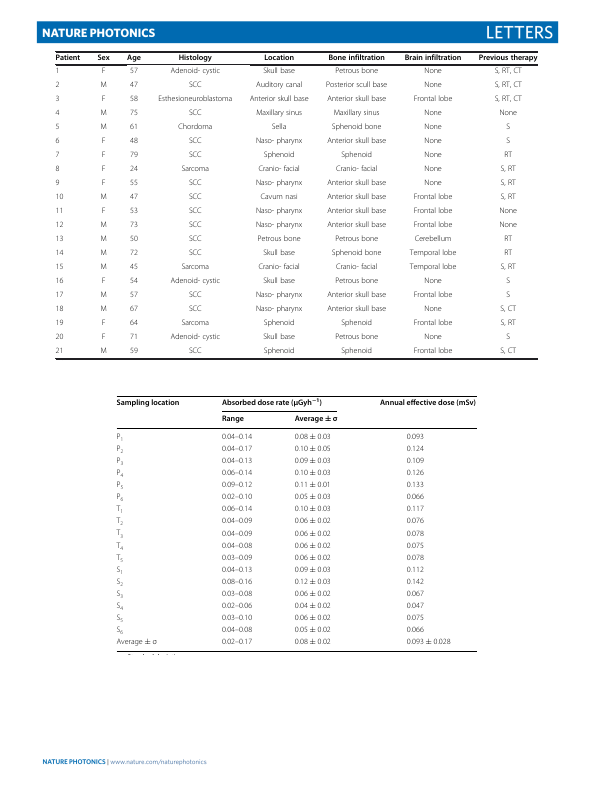borderless: (54, 50, 537, 358), (115, 394, 477, 651)
cell: (221, 397, 323, 408), (379, 398, 477, 408), (157, 95, 233, 105), (116, 398, 180, 408), (325, 81, 388, 91), (326, 95, 387, 105), (326, 137, 387, 147), (326, 179, 387, 189), (326, 193, 387, 203), (326, 207, 387, 217), (326, 221, 387, 231), (326, 291, 387, 301), (326, 305, 387, 315), (249, 95, 309, 105), (478, 54, 538, 63), (327, 54, 386, 63), (404, 54, 462, 63), (169, 67, 221, 77), (169, 277, 221, 287), (169, 333, 221, 343), (331, 123, 382, 133), (331, 249, 382, 259), (255, 81, 303, 91), (255, 109, 303, 119), (255, 137, 303, 147), (255, 179, 303, 189), (255, 207, 303, 217), (255, 221, 303, 231), (409, 249, 457, 259), (409, 263, 457, 273), (255, 291, 303, 301), (255, 305, 303, 315), (333, 109, 380, 119), (334, 67, 379, 77), (334, 235, 379, 245), (334, 277, 379, 287), (334, 333, 379, 343), (257, 165, 301, 175), (257, 235, 301, 245), (257, 263, 301, 273), (294, 414, 338, 424), (335, 165, 378, 175), (335, 263, 378, 273), (406, 638, 452, 647), (413, 95, 453, 105), (259, 193, 299, 203), (413, 193, 453, 203), (413, 207, 453, 217), (413, 221, 453, 231), (413, 291, 453, 301), (413, 319, 453, 329), (413, 347, 453, 357), (115, 638, 158, 647), (414, 235, 452, 245), (294, 432, 332, 442), (294, 444, 332, 454), (294, 553, 332, 563), (294, 565, 332, 575), (177, 123, 213, 133), (294, 457, 332, 466), (294, 469, 332, 478), (294, 481, 332, 490), (294, 493, 332, 502), (294, 505, 332, 514), (294, 517, 332, 526), (294, 529, 332, 538), (294, 541, 332, 550), (294, 578, 332, 587), (294, 590, 332, 599), (294, 602, 332, 611), (294, 614, 332, 623), (294, 626, 332, 635), (294, 638, 332, 647), (262, 67, 296, 77), (262, 249, 296, 259), (262, 277, 296, 287), (262, 333, 296, 343), (340, 151, 373, 161), (340, 319, 373, 329), (340, 347, 373, 357), (263, 151, 295, 161), (263, 319, 295, 329), (263, 347, 295, 357), (221, 432, 253, 442), (221, 444, 253, 454), (221, 553, 253, 563), (221, 565, 253, 575), (178, 54, 213, 63), (180, 165, 210, 175), (180, 263, 210, 273), (180, 319, 210, 329), (494, 67, 523, 77), (494, 81, 523, 91), (494, 95, 523, 105), (263, 54, 295, 63), (221, 457, 253, 466), (221, 469, 253, 478), (221, 481, 253, 490), (221, 493, 253, 502), (221, 505, 253, 514), (221, 517, 253, 526), (221, 529, 253, 538), (221, 541, 253, 550), (221, 578, 253, 587), (221, 590, 253, 599), (221, 602, 253, 611), (221, 614, 253, 623), (221, 626, 253, 635), (221, 638, 253, 647), (221, 414, 245, 424), (55, 54, 81, 63), (423, 67, 443, 77), (423, 81, 443, 91), (423, 109, 443, 119), (498, 109, 518, 119), (423, 123, 443, 133), (423, 137, 443, 147), (423, 151, 443, 161), (423, 165, 443, 175), (423, 179, 443, 189), (498, 207, 518, 217), (498, 221, 518, 231), (423, 277, 443, 287), (423, 305, 443, 315), (423, 333, 443, 343), (406, 432, 425, 442), (406, 444, 425, 454), (406, 553, 425, 563), (406, 565, 425, 575), (499, 305, 517, 315), (499, 347, 517, 357), (406, 457, 425, 466), (406, 469, 425, 478), (406, 481, 425, 490), (406, 493, 425, 502), (406, 505, 425, 514), (406, 517, 425, 526), (406, 529, 425, 538), (406, 541, 425, 550), (406, 578, 425, 587), (406, 590, 425, 599), (406, 602, 425, 611), (406, 614, 425, 623), (406, 626, 425, 635), (500, 165, 517, 175), (500, 179, 517, 189), (500, 193, 517, 203), (500, 263, 517, 273), (500, 319, 517, 329), (271, 123, 287, 133), (126, 54, 142, 63), (188, 81, 202, 91), (188, 109, 202, 119), (188, 137, 202, 147), (188, 151, 202, 161), (188, 179, 202, 189), (188, 193, 202, 203), (188, 207, 202, 217), (188, 221, 202, 231), (188, 235, 202, 245), (188, 249, 202, 259), (188, 291, 202, 301), (188, 305, 202, 315), (188, 347, 202, 357), (96, 54, 111, 63), (129, 67, 139, 77), (129, 81, 139, 91), (129, 95, 139, 105), (129, 109, 139, 119), (129, 123, 139, 133), (129, 137, 139, 147), (129, 151, 139, 161), (503, 151, 513, 161), (129, 165, 139, 175), (129, 179, 139, 189), (129, 193, 139, 203), (129, 207, 139, 217), (129, 221, 139, 231), (129, 235, 139, 245), (503, 235, 513, 245), (129, 249, 139, 259), (503, 249, 513, 259), (129, 263, 139, 273), (129, 277, 139, 287), (129, 291, 139, 301), (129, 305, 139, 315), (129, 319, 139, 329), (129, 333, 139, 343), (129, 347, 139, 357), (115, 505, 124, 516), (115, 517, 124, 528), (115, 529, 124, 540), (115, 541, 124, 552), (115, 553, 124, 564), (115, 565, 124, 576), (115, 614, 124, 625), (115, 626, 124, 637), (99, 81, 108, 91), (99, 109, 108, 119), (99, 123, 108, 133), (55, 193, 64, 203), (99, 193, 108, 203), (55, 207, 64, 217), (55, 221, 64, 231), (99, 221, 108, 231), (55, 235, 64, 245), (99, 235, 108, 245), (55, 249, 64, 259), (99, 249, 108, 259), (55, 263, 64, 273), (99, 263, 108, 273), (55, 277, 64, 287), (55, 291, 64, 301), (99, 291, 108, 301), (55, 305, 64, 315), (99, 305, 108, 315), (55, 319, 64, 329), (55, 333, 64, 343), (55, 347, 64, 357), (99, 347, 108, 357), (115, 578, 124, 588), (115, 590, 124, 600), (115, 602, 124, 612), (116, 432, 124, 443), (116, 444, 124, 455), (116, 493, 124, 504), (116, 457, 124, 467), (116, 469, 124, 479), (116, 481, 124, 491), (505, 123, 511, 133), (505, 137, 511, 147), (505, 277, 511, 287), (505, 291, 511, 301), (505, 333, 511, 343), (55, 67, 60, 77), (101, 67, 106, 77), (55, 81, 60, 91), (55, 95, 60, 105), (101, 95, 106, 105), (55, 109, 60, 119), (55, 123, 60, 133), (55, 137, 60, 147), (101, 137, 106, 147), (55, 151, 60, 161), (101, 151, 106, 161), (55, 165, 60, 175), (101, 165, 106, 175), (55, 179, 60, 189), (101, 179, 106, 189), (101, 207, 106, 217), (101, 277, 106, 287), (101, 319, 106, 329), (101, 333, 106, 343)
